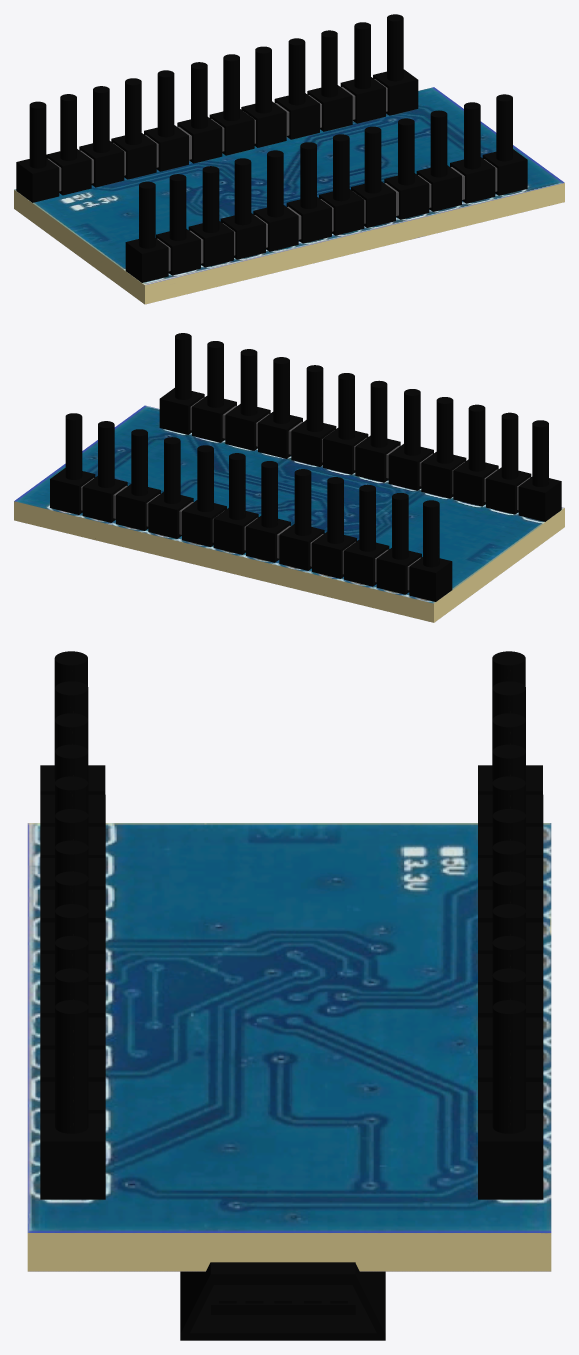
The model's file is LeguLeteron-Arduino_Pro_Micro.fbx.
The picture shows the model from 3 angles, top to bottom: view 1: azimuth 30°, elevation 25°; view 2: azimuth 150°, elevation 25°; view 3: azimuth 270°, elevation 25°; orthographic projection. The views are drawn at different scales.
Parts seen in each view (by area): view 1: node_id4460, node_id1356 (×2), node_id4438 (×2), node_id1429 (×2), node_id1425 (×2), node_id1373 (×2), node_id4422 (×2), node_id1449 (×2), node_id4451 (×2), node_id1413 (×2), node_id4443 (×2), node_id1377 (×2) (+17 smaller); view 2: node_id4460, node_id1417 (×2), node_id1429 (×2), node_id1425 (×2), node_id4422 (×2), node_id1449 (×2), node_id1356 (×2), node_id4451 (×2), node_id1373 (×2), node_id1421 (×2), node_id4410 (×2), node_id4430 (×2) (+17 smaller); view 3: node_id4460, node_id1344 (×2), node_id4451 (×2), node_id1237, node_id1233, node_id1229, node_id1421 (×2), node_id1449 (×2), node_id4410 (×2), node_id1377 (×2), node_id4438 (×2), node_id1373 (×2) (+20 smaller).
Part boxes in pixels (x1,y1,x2,y2): node_id4460: (14,87,564,304); node_id1356 (×2): (416,110,461,211); node_id4438 (×2): (274,38,319,139); node_id1429 (×2): (188,166,233,267); node_id1425 (×2): (220,158,265,259); node_id1373 (×2): (351,126,395,227); node_id4422 (×2): (144,70,188,171); node_id1449 (×2): (156,174,200,275); node_id4451 (×2): (373,14,418,115); node_id1413 (×2): (319,134,364,235); node_id4443 (×2): (307,30,352,131); node_id1377 (×2): (384,118,429,219); node_id4460: (14,405,564,622); node_id1417 (×2): (355,380,400,482); node_id1429 (×2): (453,404,498,506); node_id1425 (×2): (421,397,466,498); node_id4422 (×2): (279,469,324,570); node_id1449 (×2): (486,412,531,514); node_id1356 (×2): (225,349,270,450); node_id4451 (×2): (50,413,95,514); node_id1373 (×2): (291,365,336,466); node_id1421 (×2): (388,389,433,490); node_id4410 (×2): (376,493,421,594); node_id4430 (×2): (213,453,258,554); node_id4460: (27,823,551,1271); node_id1344 (×2): (40,1000,105,1199); node_id4451 (×2): (478,1000,543,1199); node_id1237: (180,1271,385,1340); node_id1233: (210,1262,355,1284); node_id1229: (211,1285,355,1314); node_id1421 (×2): (40,776,105,922); node_id1449 (×2): (40,681,105,857); node_id4410 (×2): (478,681,543,857); node_id1377 (×2): (40,904,105,1081); node_id4438 (×2): (478,904,543,1081); node_id1373 (×2): (40,871,105,1017).
Bounding box in the file's own units: 0.4591 × 0.1387 × 0.2408.
Materials: 20 (20 with a texture image).
